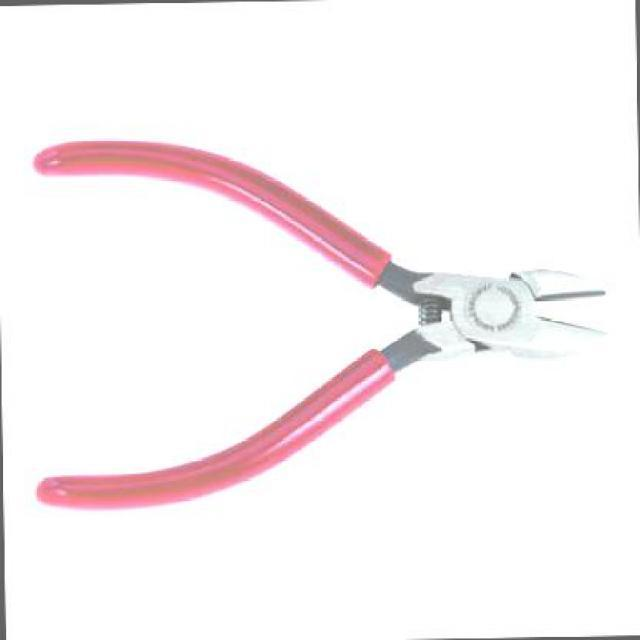pliers: (0, 110, 625, 524)
